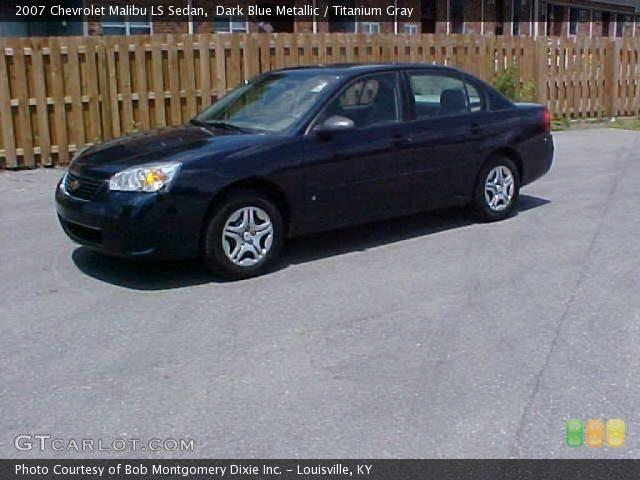Sedan: (53, 60, 554, 280)
